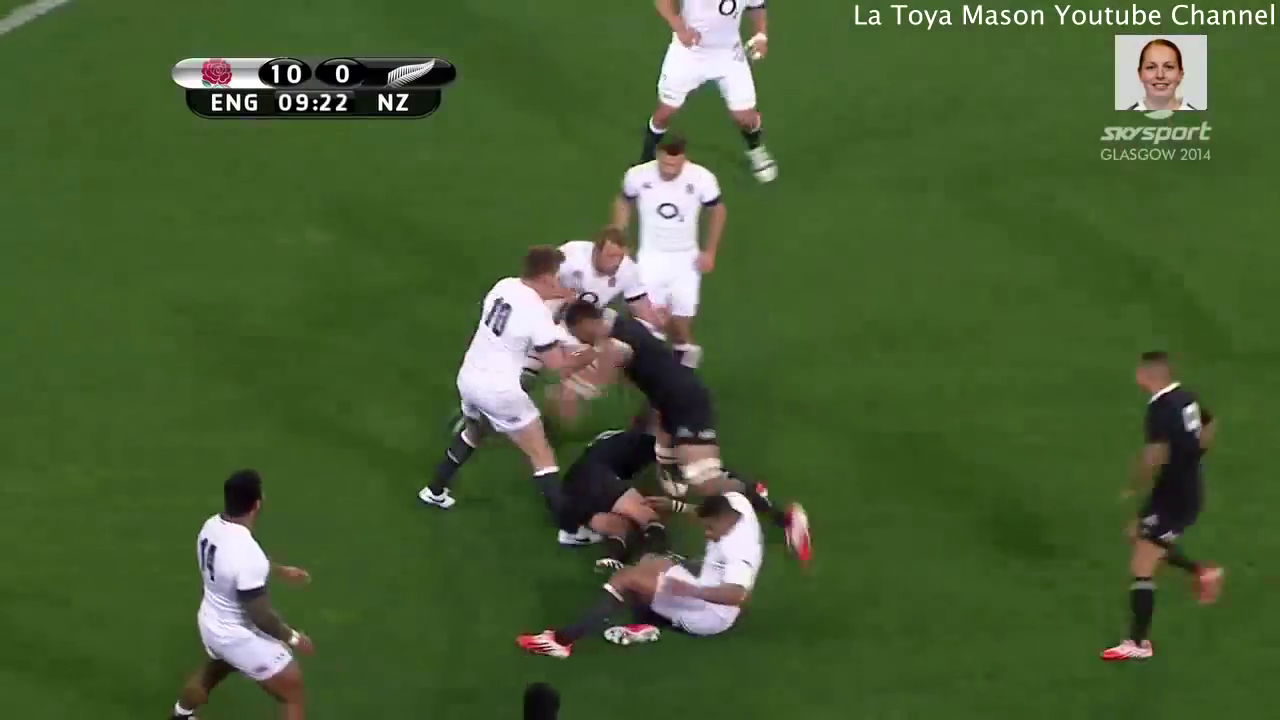player: (563, 308, 843, 580), (424, 240, 601, 543), (515, 481, 770, 664), (1099, 347, 1231, 680), (169, 464, 331, 720), (603, 132, 757, 376), (631, 1, 781, 189), (542, 227, 647, 307), (501, 670, 569, 720)
